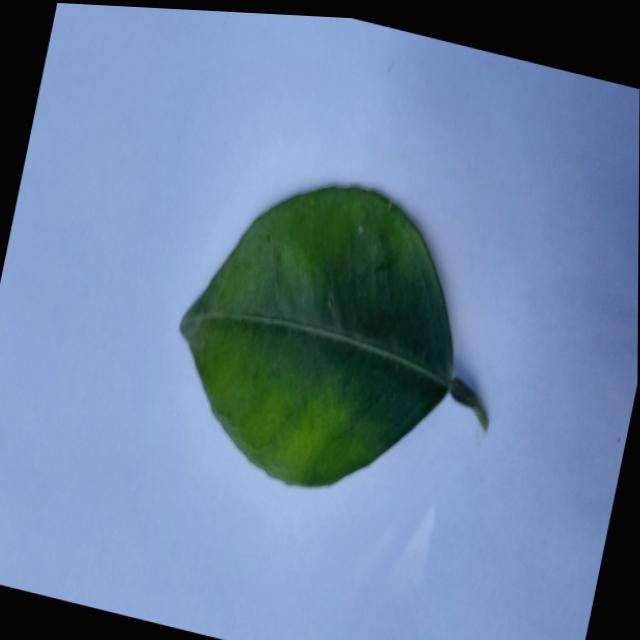greening: (179, 187, 486, 486)
